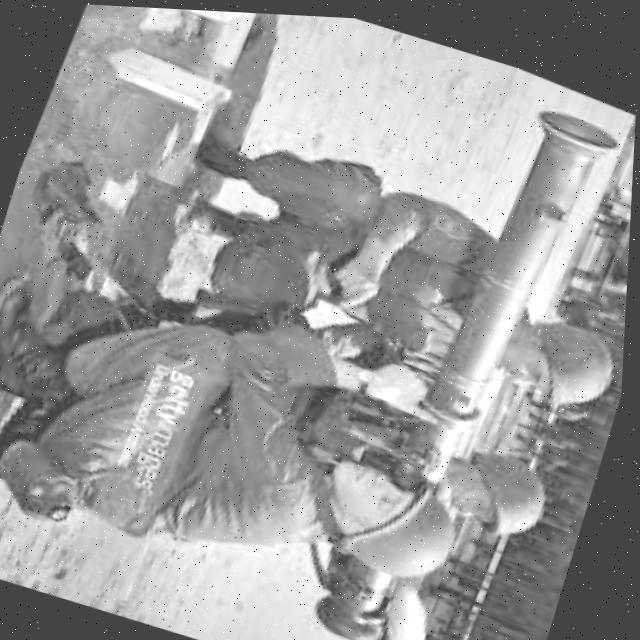rocket: (311, 67, 634, 640)
